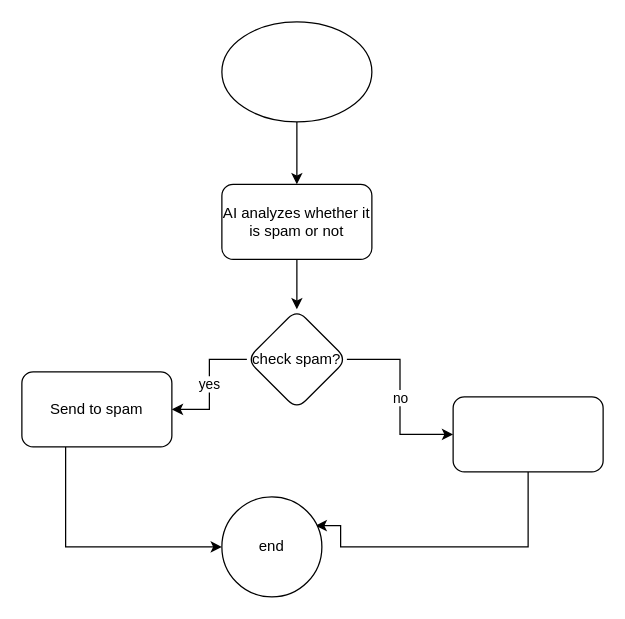
Image size: 625x619. Some labels were removed from this diagram. The centre of each missing label's shape, as x and y in pixels:
"Email Inbox" goes at [296,71].
"send to inbox" goes at [527,434].
